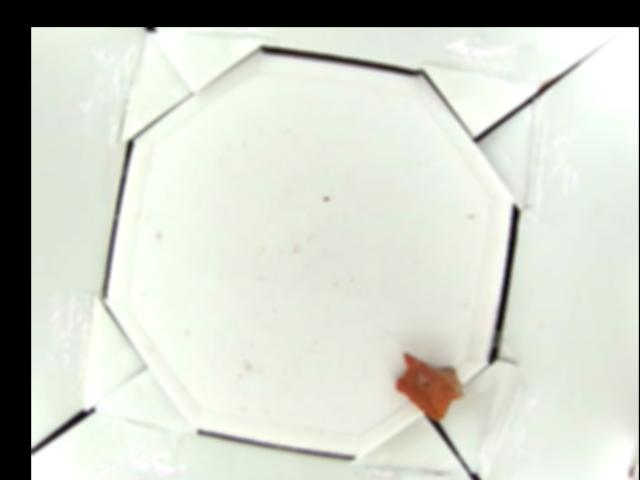Brisk: (394, 350, 463, 423)
